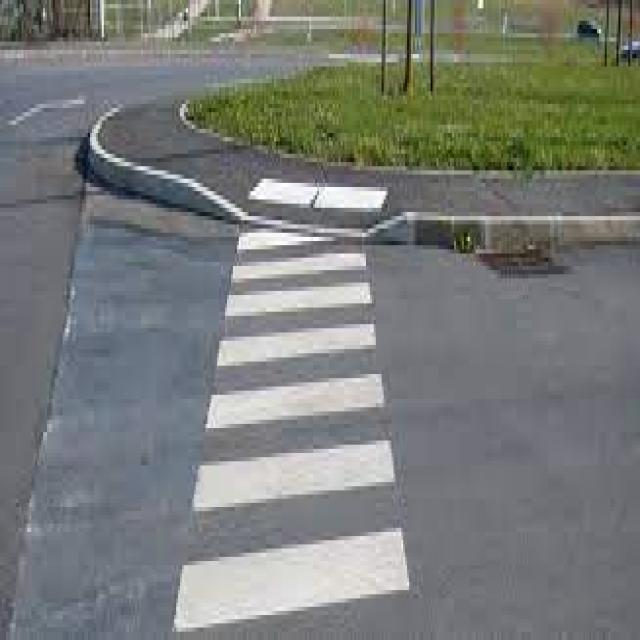crosswalk: (170, 222, 414, 639)
